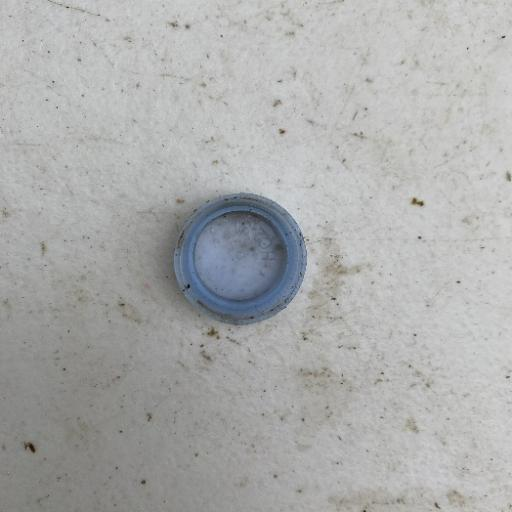Plastic: (170, 190, 309, 328)
